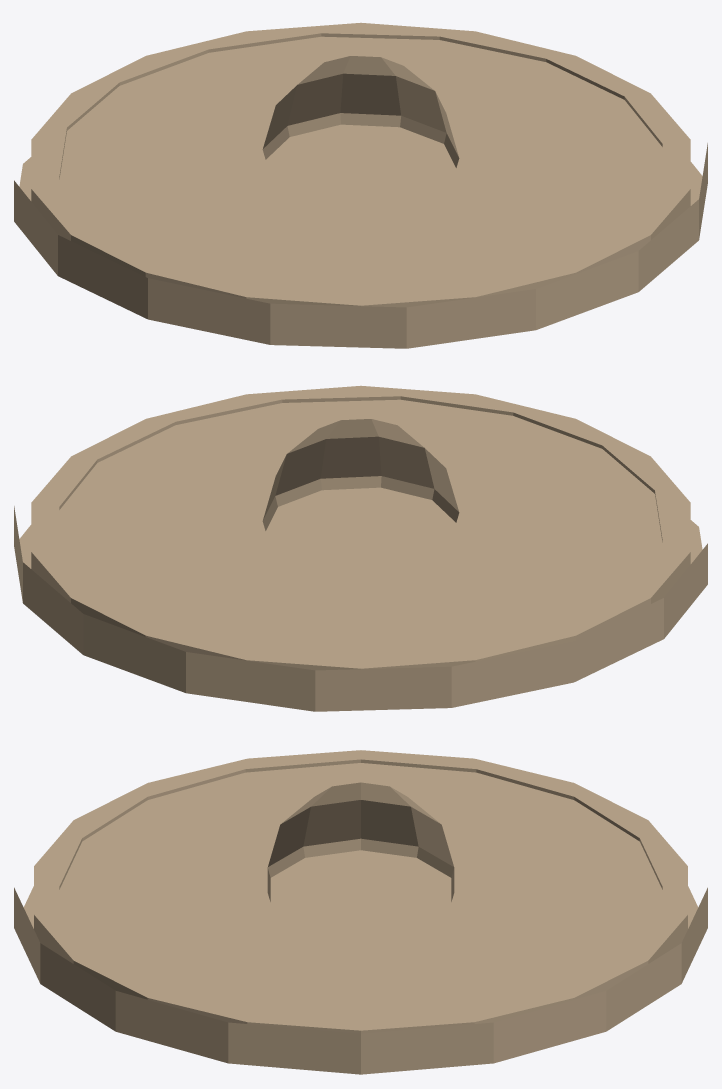
The model's file is armor_shield_round.glb.
3 views of the same model, one above another, from view 1: azimuth 30°, elevation 25°; view 2: azimuth 150°, elevation 25°; view 3: azimuth 270°, elevation 25° (orthographic).
Parts seen in each view (by area): view 1: ArmorShieldRound_Node; view 2: ArmorShieldRound_Node; view 3: ArmorShieldRound_Node.
Boxes of the visible parts, x1,y1,x2,y2 form: ArmorShieldRound_Node: (14,22,707,348); ArmorShieldRound_Node: (14,385,707,711); ArmorShieldRound_Node: (14,750,707,1074).
Size of the model in its own units: 0.46 by 0.13 by 0.46.
